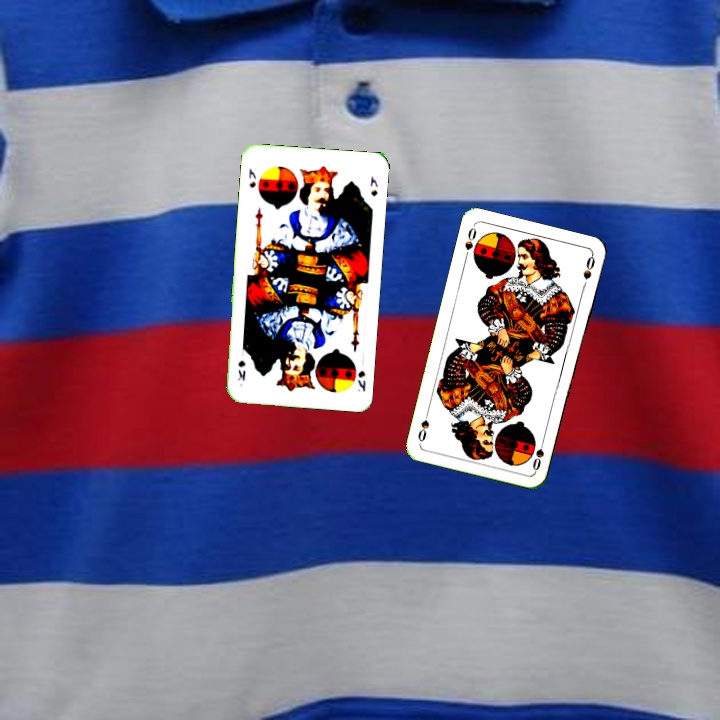SK: (354, 366, 368, 394), (245, 165, 259, 190)
SO: (528, 434, 548, 474), (460, 222, 479, 262)
